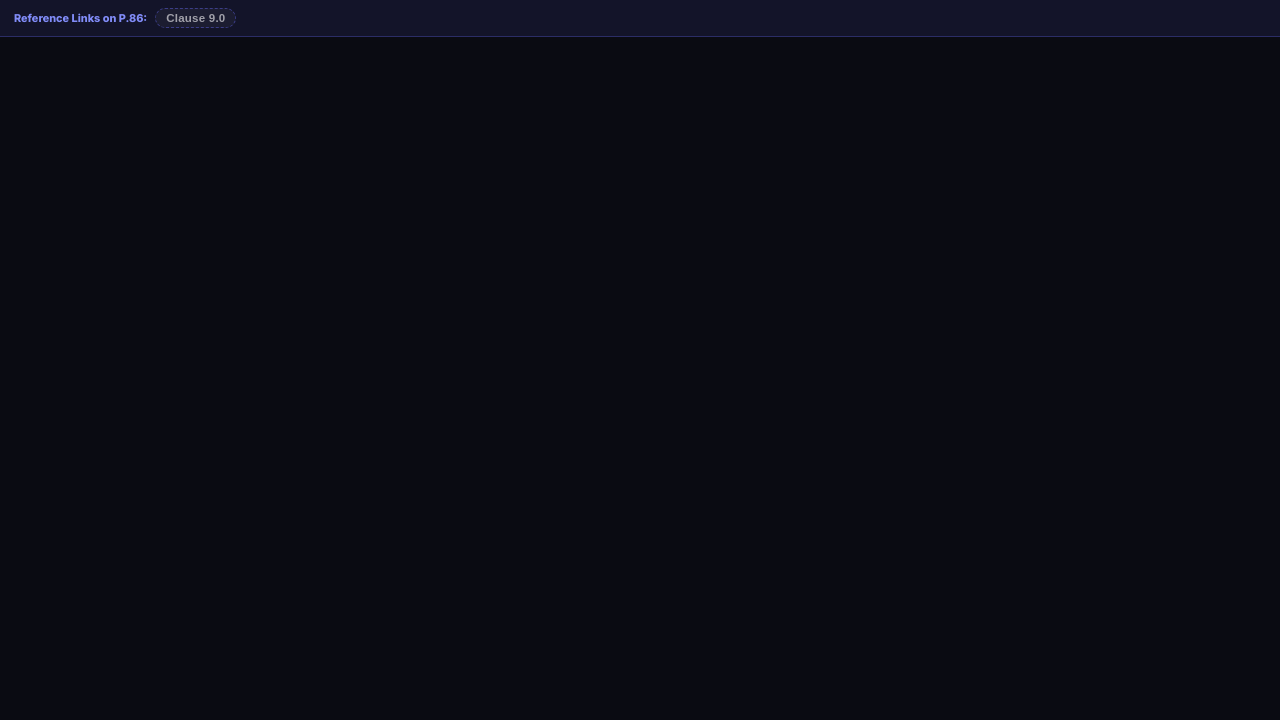
it: PageReferenceBadges › a fallback-only single candidate (no exact same-family target) still opens the picker, not an auto-navigate
The image size is (1280, 720).
Later steps or results of the test are not shown.
Step 1. Click the button with test id "page-reference-badge-clause:9.0" → {"x": 196, "y": 18}, box x1=155 y1=8 x2=236 y2=28
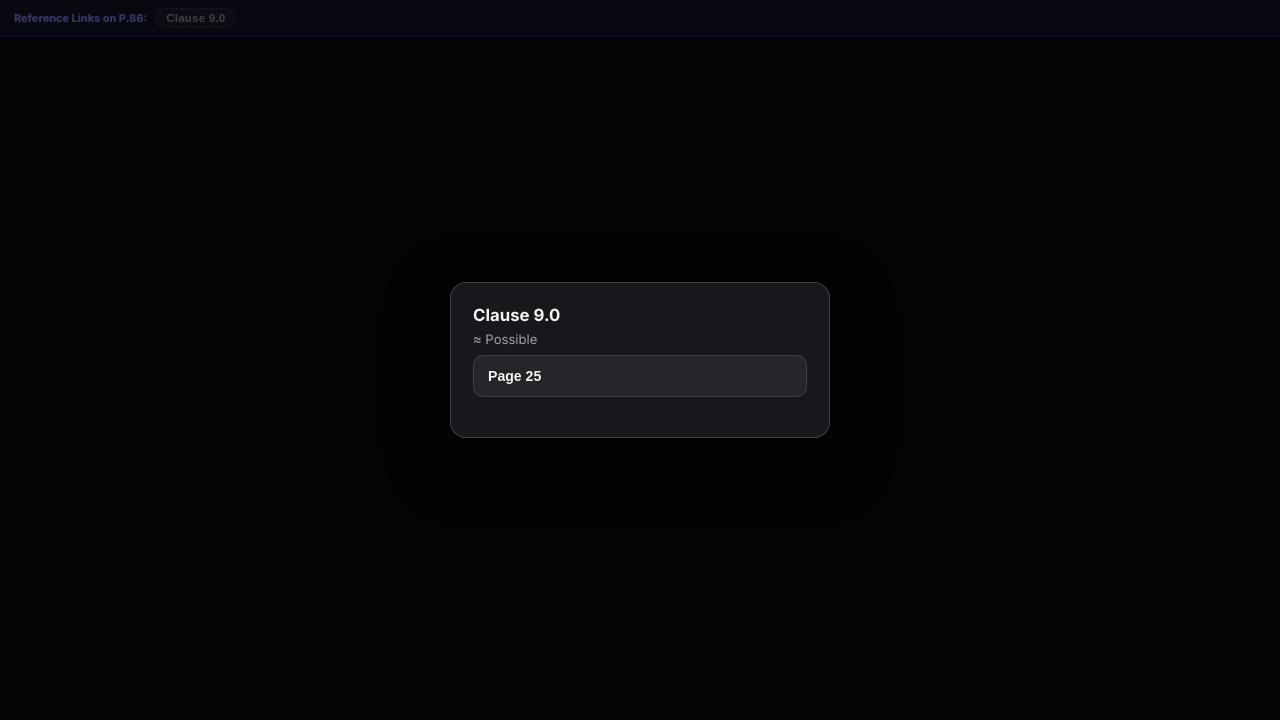
Expected: the element with test id "page-reference-candidates-modal" shows "Page 25", x1=450 y1=282 x2=830 y2=438
